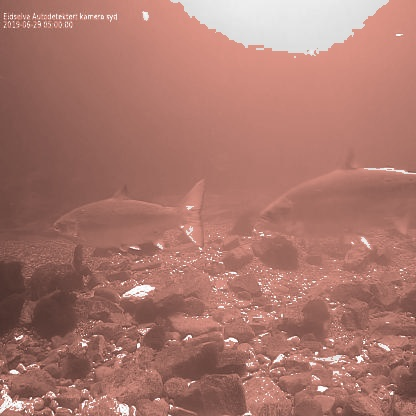salmon: (257, 143, 416, 253), (50, 176, 208, 254)
